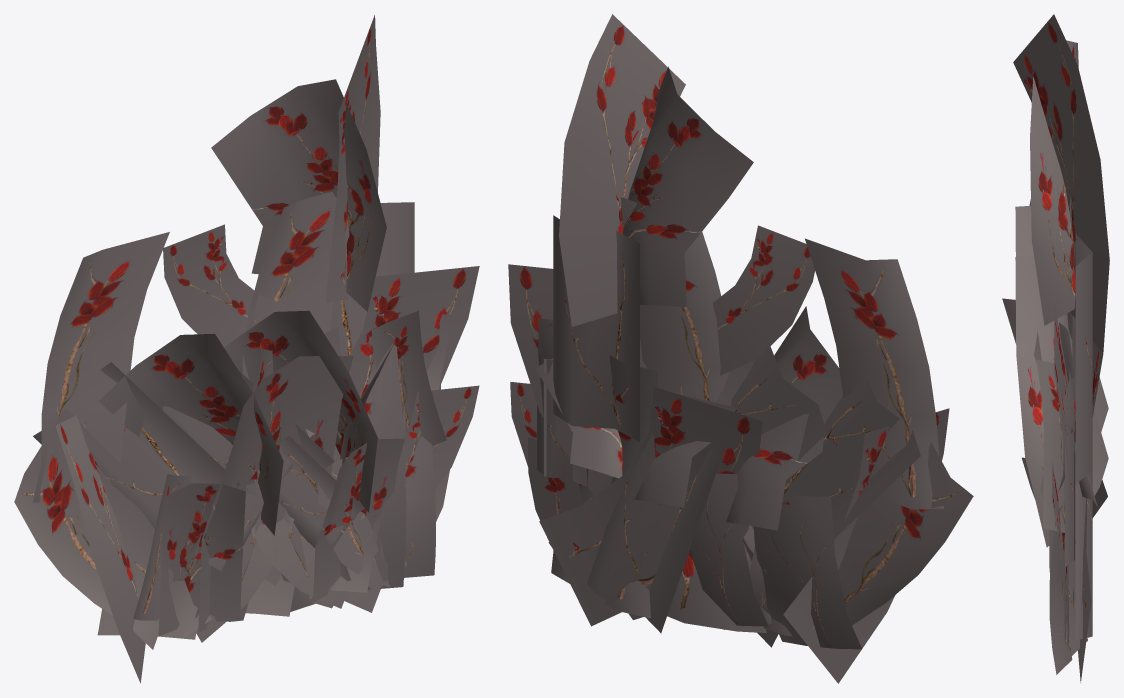
The model's file is ivy12_lod0.fbx.
3 views of the same model, side by side, from view 1: azimuth 30°, elevation 25°; view 2: azimuth 150°, elevation 25°; view 3: azimuth 270°, elevation 25° (orthographic). The views are drawn at different scales.
Visible parts, largest first — view 1: Mesh Object; view 2: Mesh Object; view 3: Mesh Object.
Boxes of the visible parts, x1,y1,x2,y2 form: Mesh Object: (14, 15, 479, 683); Mesh Object: (508, 14, 973, 683); Mesh Object: (1002, 14, 1109, 682).
Bounding box in the file's own units: 2.6 × 3.27 × 0.4759.
